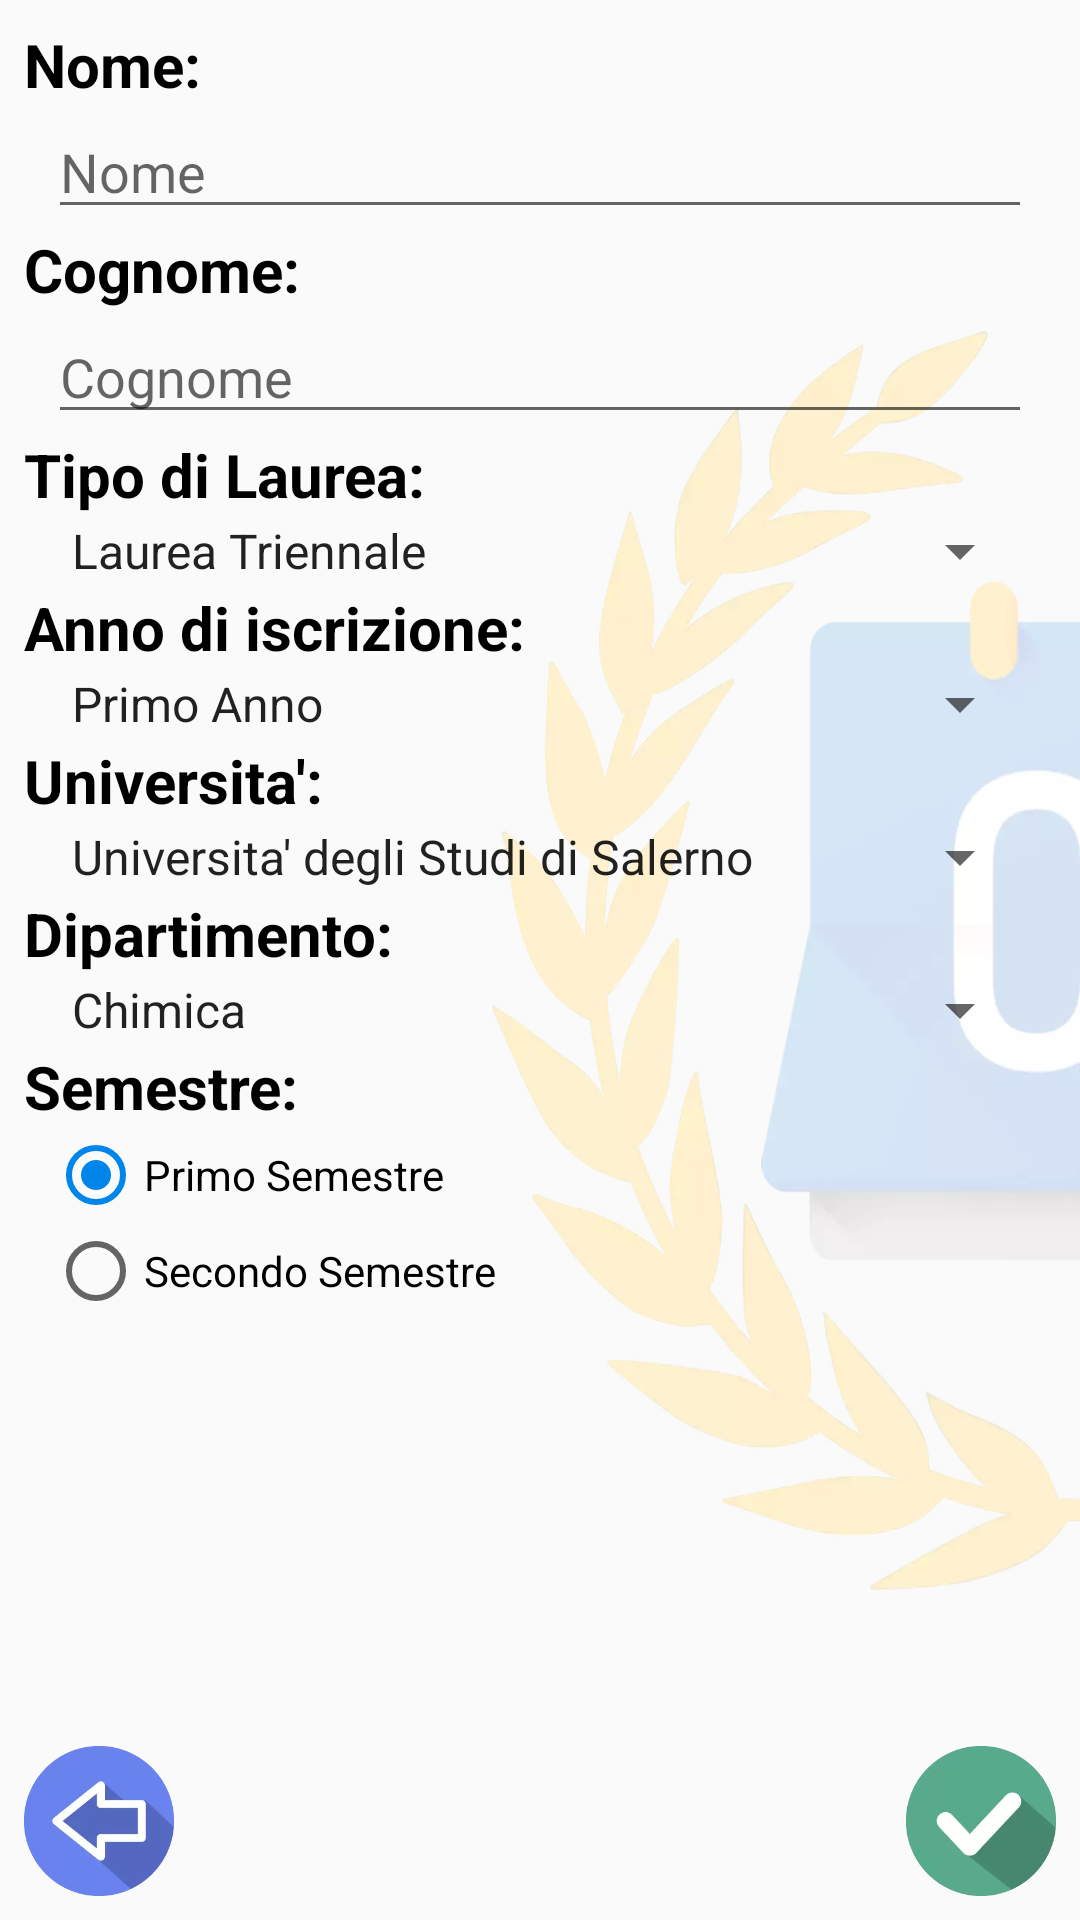

Icon bounding boxes for this 1080w x 1920h phone screenshot, format [left=x1, top=y1, right=x2, bottom=y2]:
Go Back Button: [left=24, top=1746, right=174, bottom=1896]
